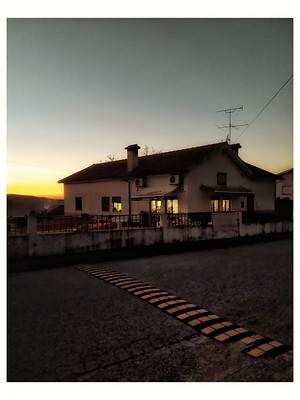low: (54, 140, 285, 228)
